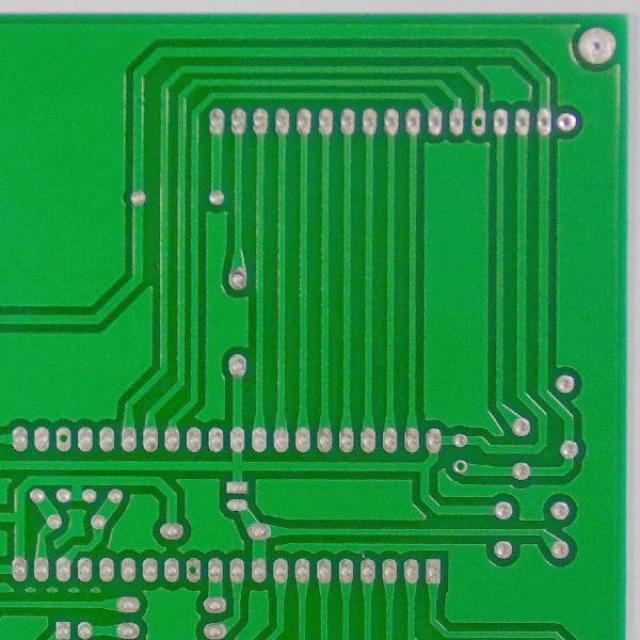Missing_Hole: (468, 106, 488, 136), (182, 556, 204, 582), (53, 425, 74, 451), (452, 458, 469, 476)
